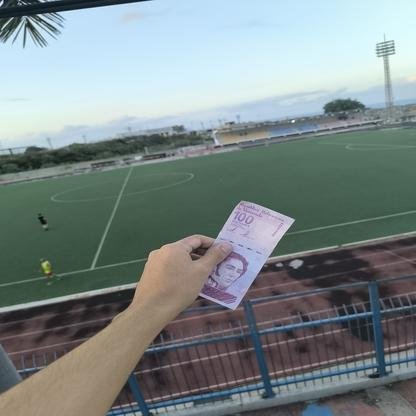vef_front: (196, 198, 295, 310)
